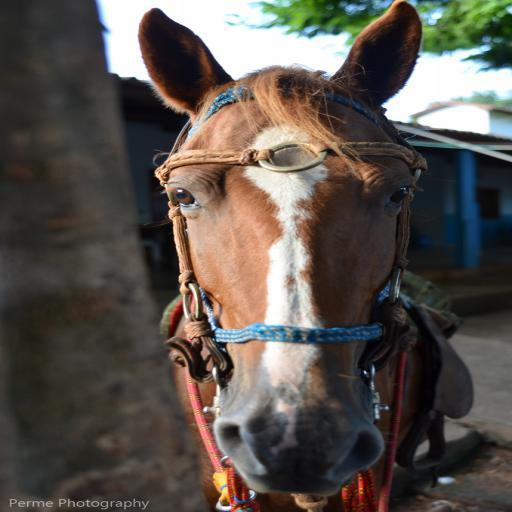horse: (140, 0, 452, 512)
